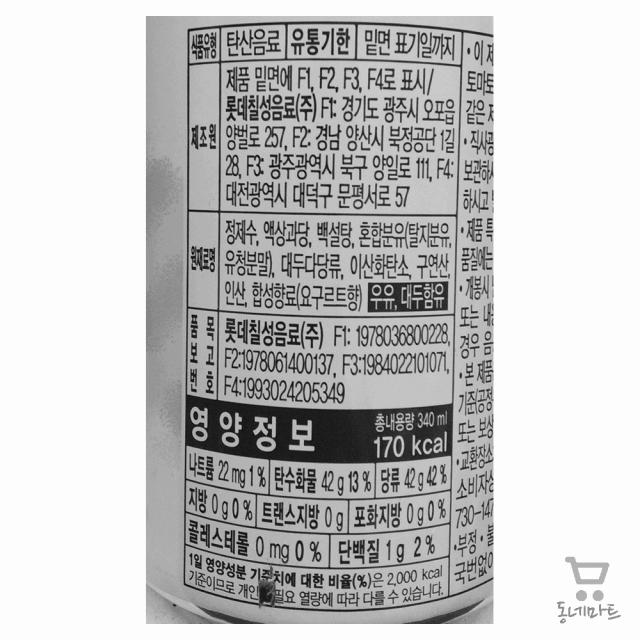Nutrition Label: (178, 389, 455, 613)
